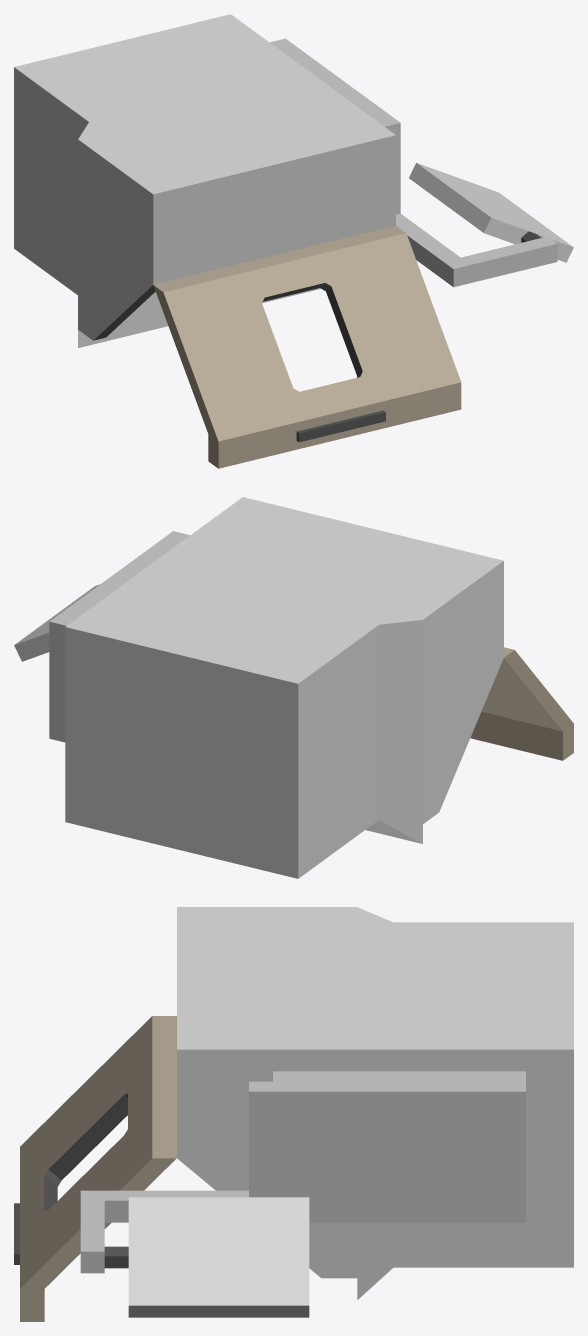
File: cnc_lathe_machine_5_state_1.dae
3 views of the same model, one above another, from view 1: azimuth 30°, elevation 25°; view 2: azimuth 150°, elevation 25°; view 3: azimuth 270°, elevation 25° (orthographic). The views are drawn at different scales.
Visible parts, largest first — view 1: coords_ME_ID39_MA_material_8, coords_ME_ID17_MA_material_13, coords_ME_ID91_MA_material_11, coords_ME_ID33_MA_material_11, coords_ME_ID73_MA_material_8, coords_ME_ID11_MA_material, coords_ME_ID3_MA_material; view 2: coords_ME_ID39_MA_material_8, coords_ME_ID17_MA_material_13, coords_ME_ID33_MA_material_11, coords_ME_ID73_MA_material_8; view 3: coords_ME_ID39_MA_material_8, coords_ME_ID33_MA_material_11, coords_ME_ID73_MA_material_8, coords_ME_ID17_MA_material_13, coords_ME_ID3_MA_material, coords_ME_ID67_MA_material.
Part boxes in pixels (x1,y1,x2,y2): coords_ME_ID39_MA_material_8: [14, 14, 395, 347]; coords_ME_ID17_MA_material_13: [153, 225, 461, 468]; coords_ME_ID91_MA_material_11: [153, 135, 395, 284]; coords_ME_ID33_MA_material_11: [270, 38, 557, 287]; coords_ME_ID73_MA_material_8: [409, 163, 573, 262]; coords_ME_ID11_MA_material: [296, 410, 385, 442]; coords_ME_ID3_MA_material: [263, 283, 362, 377]; coords_ME_ID39_MA_material_8: [65, 497, 503, 878]; coords_ME_ID17_MA_material_13: [470, 647, 573, 760]; coords_ME_ID33_MA_material_11: [49, 531, 189, 742]; coords_ME_ID73_MA_material_8: [14, 584, 100, 661]; coords_ME_ID39_MA_material_8: [177, 907, 573, 1299]; coords_ME_ID33_MA_material_11: [80, 1071, 525, 1273]; coords_ME_ID73_MA_material_8: [128, 1197, 309, 1317]; coords_ME_ID17_MA_material_13: [20, 1016, 176, 1321]; coords_ME_ID3_MA_material: [44, 1093, 127, 1211]; coords_ME_ID67_MA_material: [104, 1246, 128, 1268].
Bounding box in the file's own units: 25.46 × 13.76 × 25.65.
